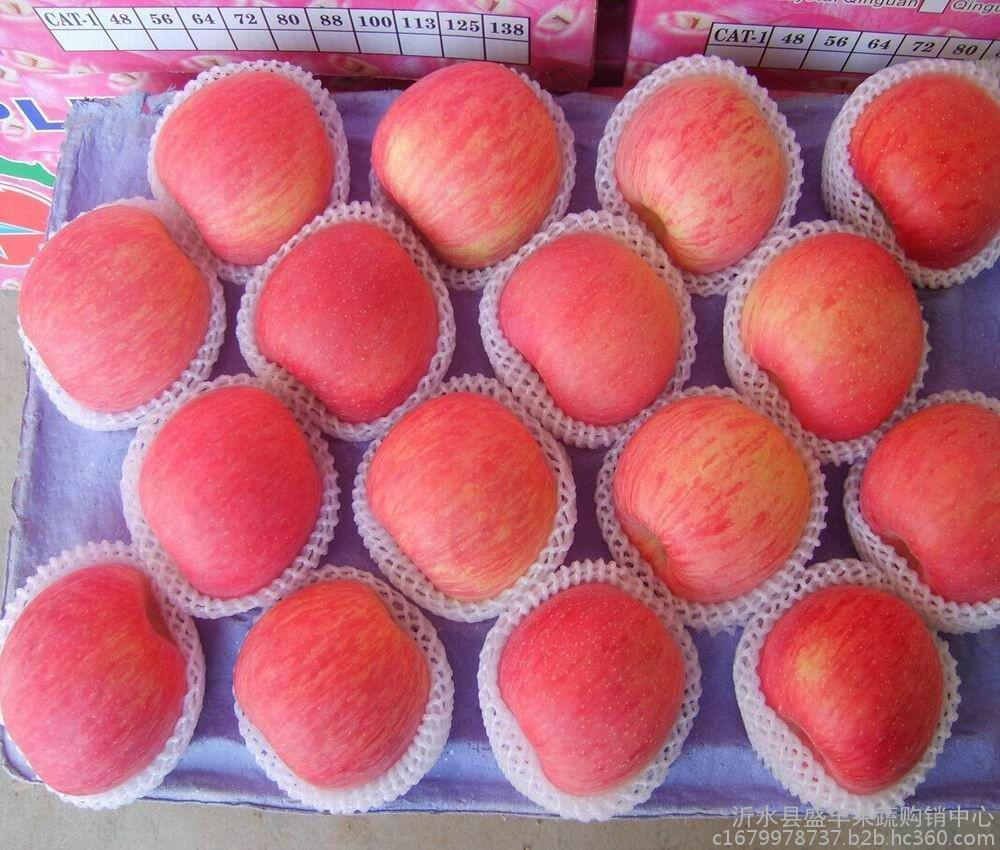apple: (1, 557, 205, 807), (227, 572, 442, 803), (367, 59, 574, 273), (609, 394, 813, 610), (755, 581, 945, 801), (734, 231, 926, 440), (17, 206, 209, 413), (143, 388, 322, 601), (368, 397, 558, 597), (504, 586, 684, 792), (502, 235, 688, 428), (257, 225, 437, 424), (614, 70, 788, 274), (154, 70, 336, 264), (849, 73, 1000, 270), (861, 401, 997, 609)
